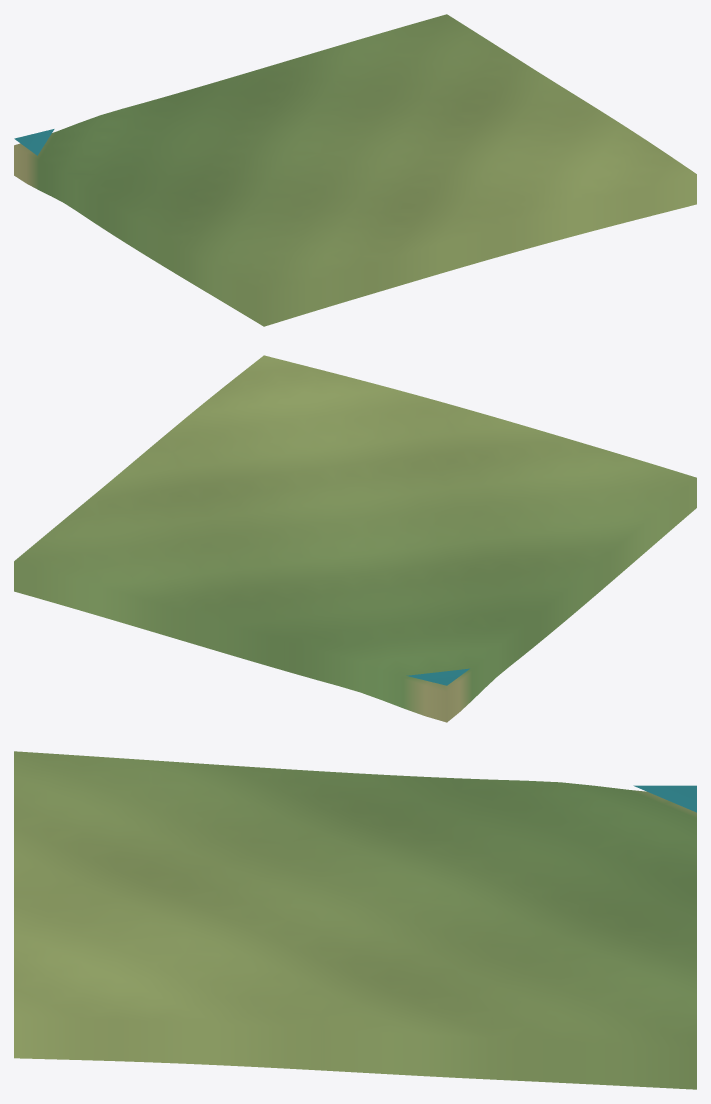
3 renders of one model, top to bottom at view 1: azimuth 30°, elevation 25°; view 2: azimuth 150°, elevation 25°; view 3: azimuth 270°, elevation 25°, orthographic. The views are drawn at different scales.
Visible parts, largest first — view 1: terrain, scenery; view 2: terrain; view 3: terrain, scenery.
Part boxes in pixels (x1,y1,x2,y2): terrain: (14, 14, 696, 326); scenery: (14, 129, 54, 155); terrain: (14, 355, 696, 722); terrain: (14, 751, 696, 1089); scenery: (633, 785, 696, 812).
Size of the model in its own units: 30 by 5.21 by 30.
